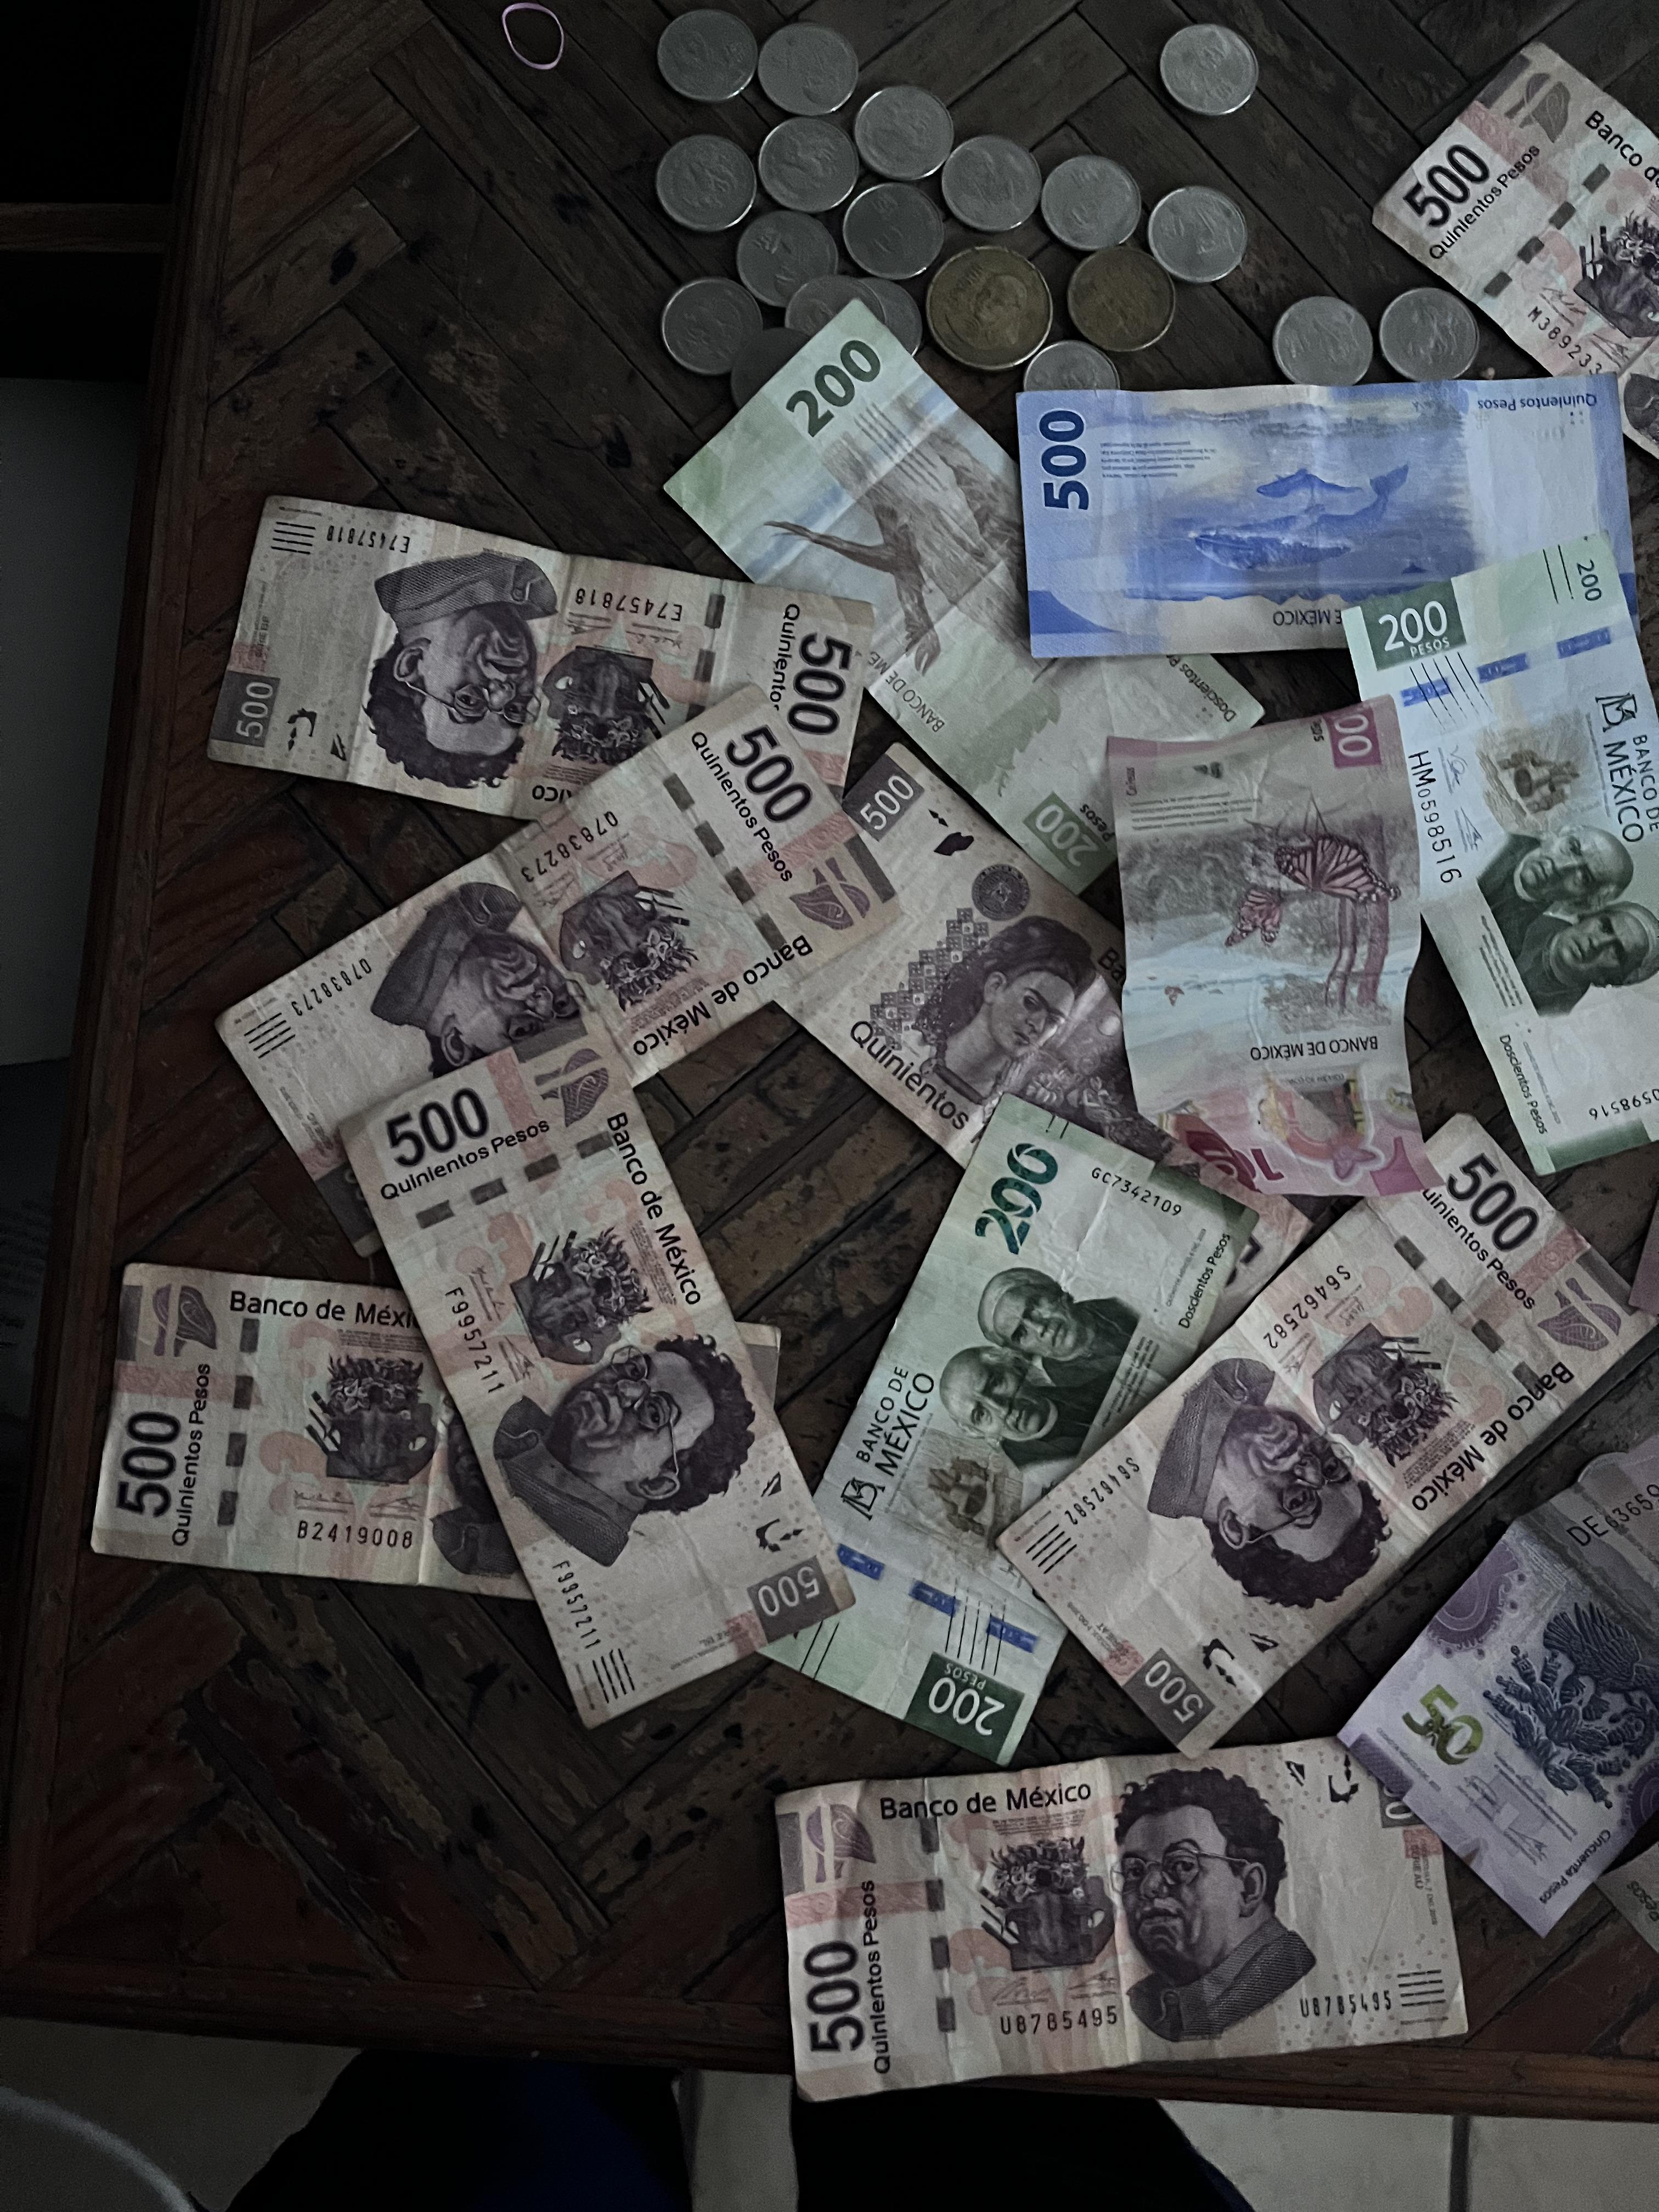200: (744, 1069, 1227, 1811), (683, 326, 1272, 899), (1345, 535, 1659, 1226)
50: (1328, 1425, 1659, 1942)
500: (1011, 1104, 1654, 1757), (167, 685, 897, 1244), (345, 1012, 873, 1719), (221, 479, 906, 869), (772, 1747, 1471, 2102), (92, 1263, 798, 1613), (742, 721, 1229, 1198), (1338, 23, 1659, 488)
500 nuevo: (993, 355, 1659, 674)
